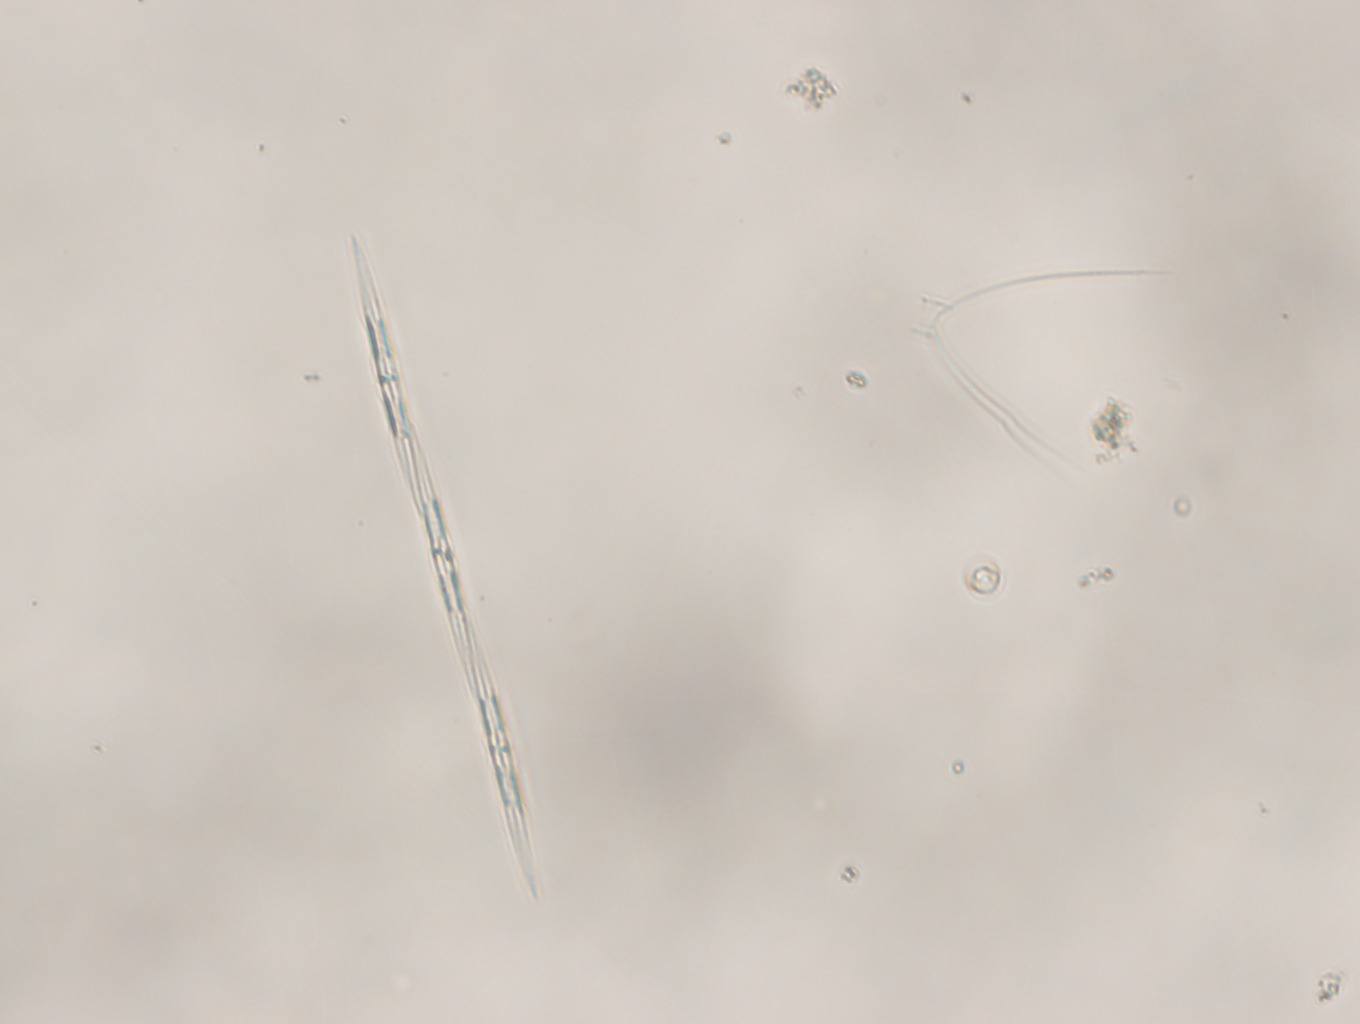chaetoceros: (904, 255, 1174, 486)
